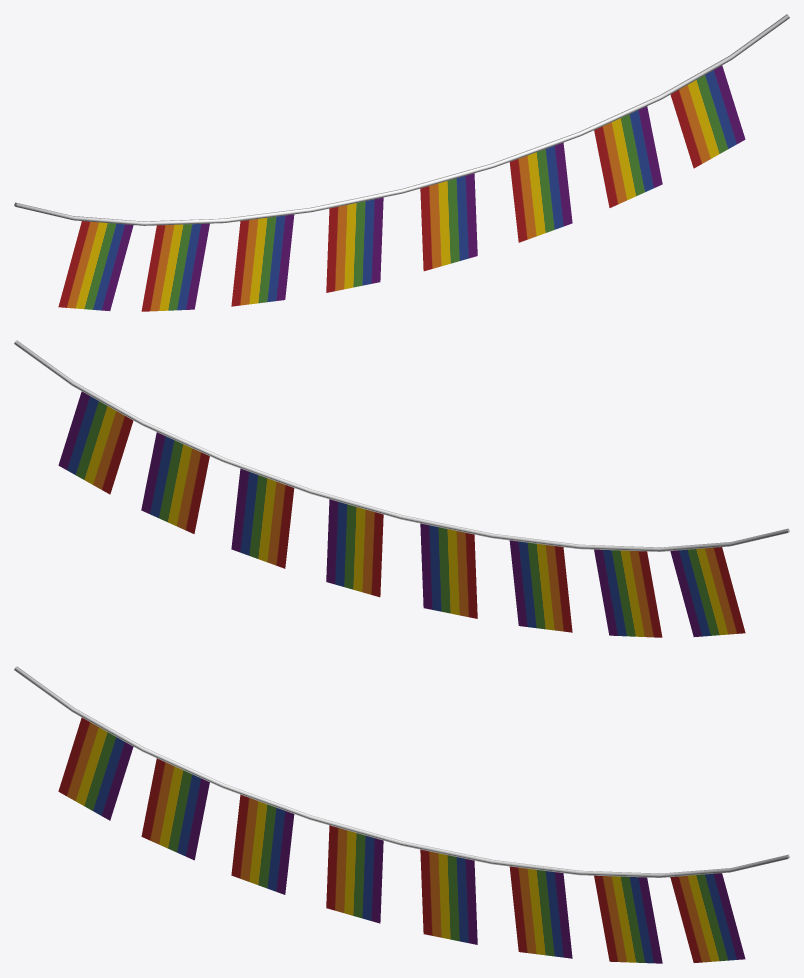
File: m_Pride_PartyGarland02.fbx
3 renders of one model, top to bottom at view 1: azimuth 30°, elevation 25°; view 2: azimuth 150°, elevation 25°; view 3: azimuth 330°, elevation 25°, orthographic.
Visible parts, largest first — view 1: m_Pride_PartyGarland02; view 2: m_Pride_PartyGarland02; view 3: m_Pride_PartyGarland02.
Part boxes in pixels (box(x1,y1,x2,y2)): m_Pride_PartyGarland02: box(14, 14, 789, 311); m_Pride_PartyGarland02: box(14, 340, 789, 637); m_Pride_PartyGarland02: box(14, 666, 789, 963).
Size of the model in its own units: 200 by 41.41 by 0.7711.
